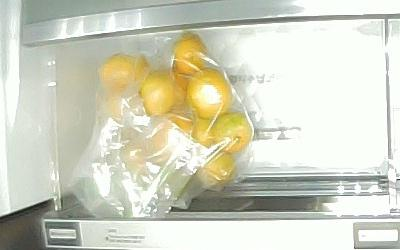tangerine_vinyl: (141, 69, 188, 119), (188, 68, 230, 119), (150, 113, 194, 159), (100, 51, 149, 91), (214, 112, 252, 155), (174, 32, 206, 77), (198, 150, 234, 188), (107, 88, 144, 119), (193, 114, 214, 149)
